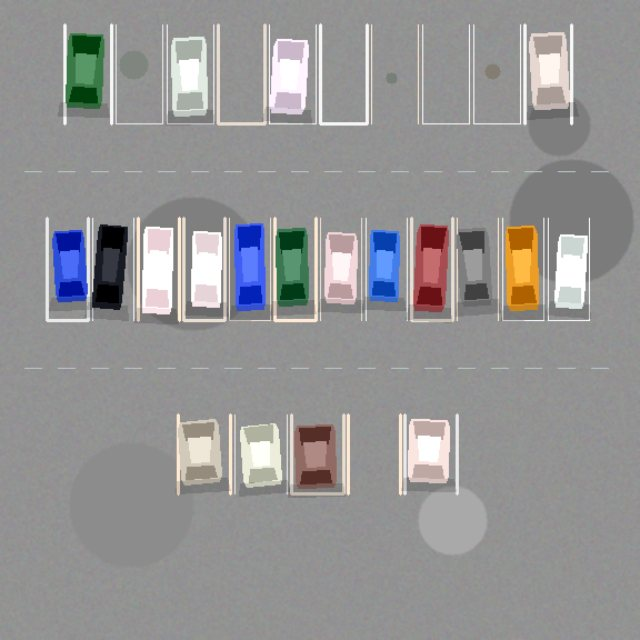space-empty: (320, 24, 367, 123), (371, 24, 418, 123), (422, 24, 469, 123), (473, 24, 520, 123), (116, 24, 162, 123), (218, 24, 264, 123), (348, 414, 400, 493)
space-occupied: (64, 24, 111, 123), (269, 24, 316, 123), (524, 24, 571, 123), (167, 24, 213, 123), (274, 218, 316, 320), (234, 414, 287, 493), (404, 414, 457, 493), (47, 218, 88, 320), (92, 218, 133, 320), (138, 218, 179, 320), (183, 218, 224, 320), (229, 218, 270, 320), (320, 218, 361, 320), (366, 218, 407, 320), (411, 218, 452, 320), (457, 218, 498, 320), (502, 218, 543, 320), (548, 218, 589, 320), (178, 414, 230, 493), (291, 414, 343, 493)
